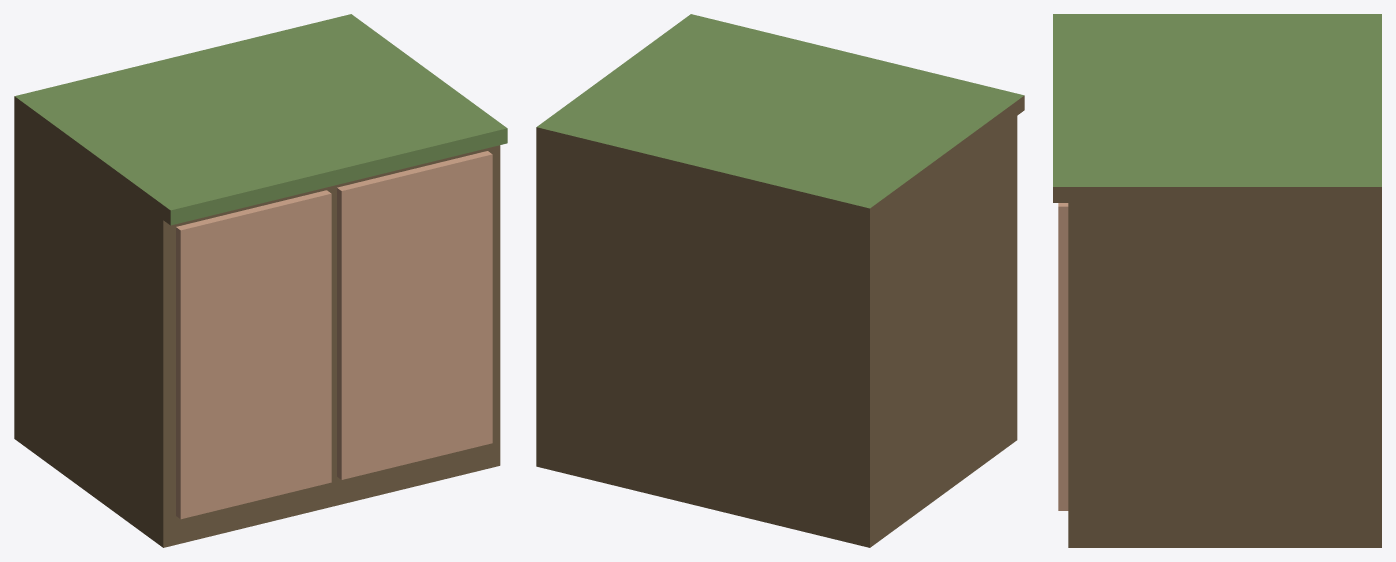
The model's file is kitchenSlab.fbx.
3 views of the same model, side by side, from view 1: azimuth 30°, elevation 25°; view 2: azimuth 150°, elevation 25°; view 3: azimuth 270°, elevation 25° (orthographic). The views are drawn at different scales.
Parts seen in each view (by area): view 1: Cube; view 2: Cube; view 3: Cube.
Boxes of the visible parts, x1,y1,x2,y2 form: Cube: [14, 14, 507, 547]; Cube: [536, 14, 1024, 547]; Cube: [1053, 14, 1381, 547].
Bounding box in the file's own units: 141 × 137 × 113.
